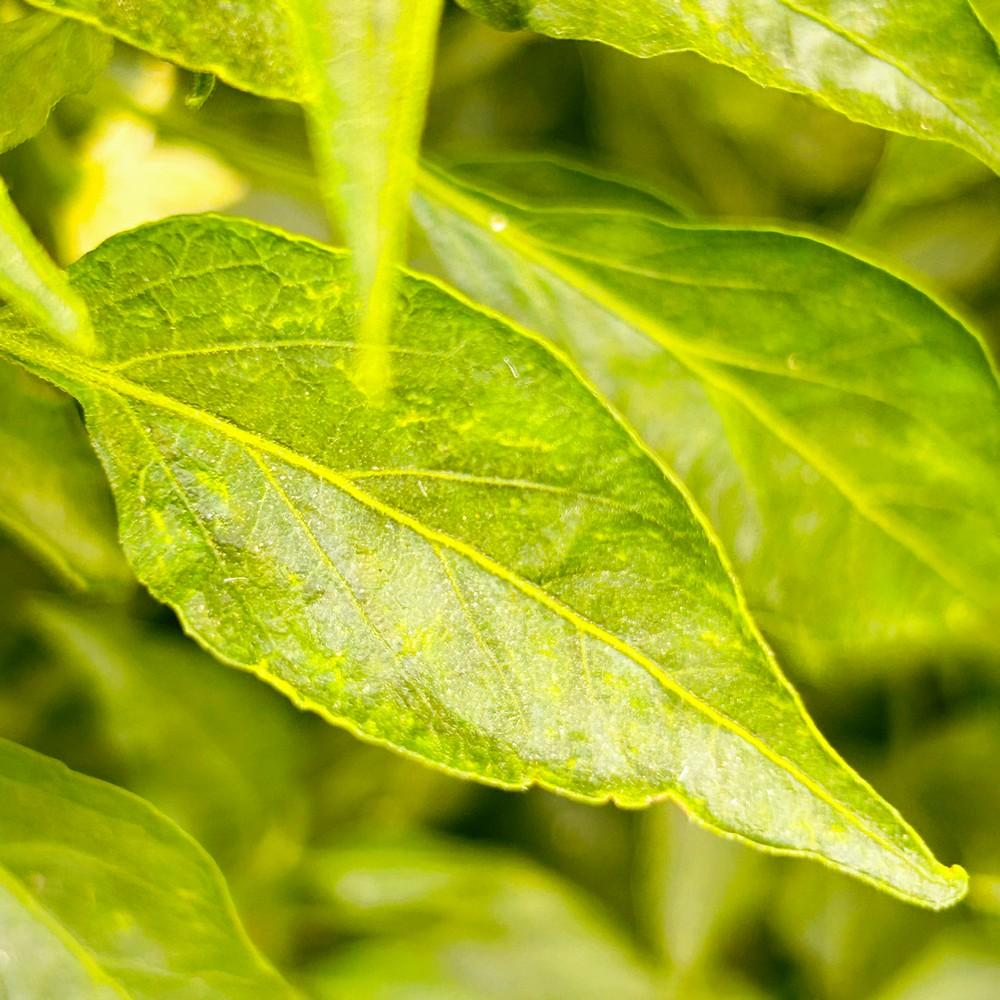Daun Cabai Sehat: (1, 207, 967, 922)
